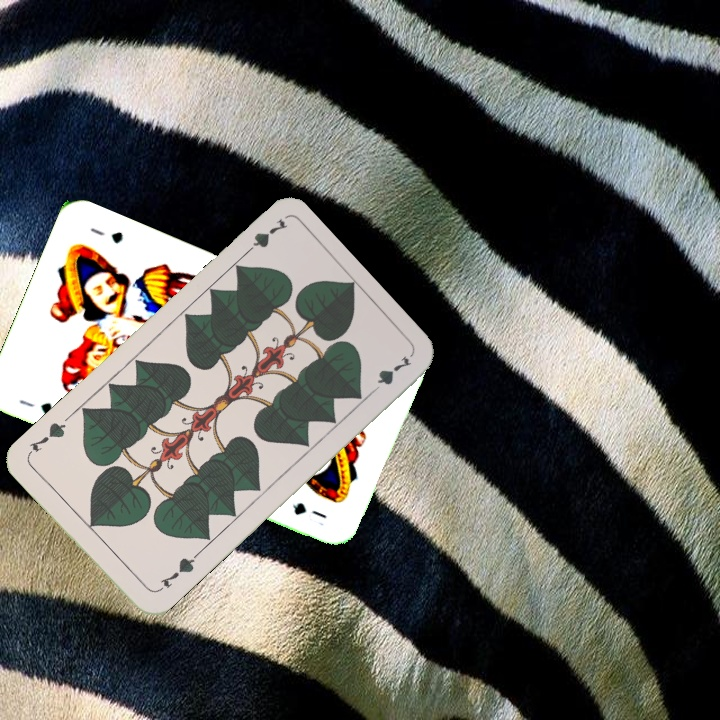G7: (238, 214, 290, 260), (152, 550, 200, 595)
GU: (15, 395, 55, 417)
